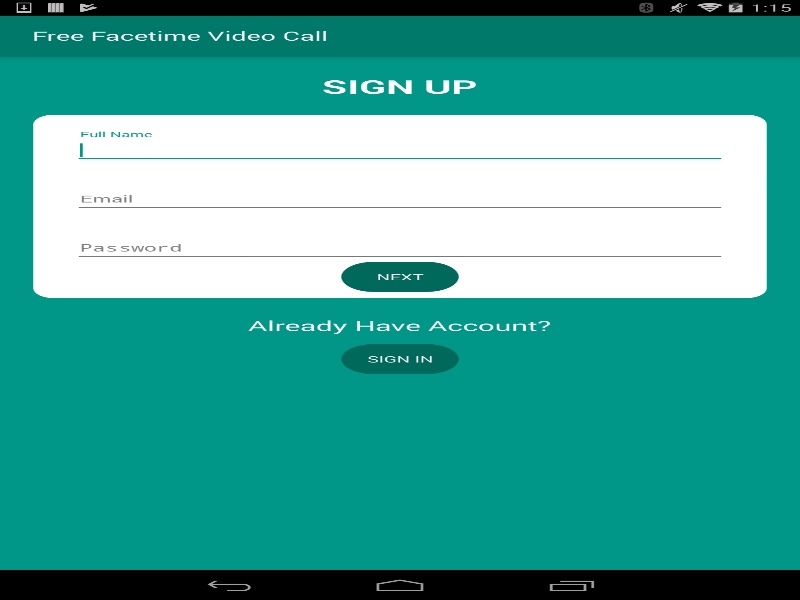Button: (341, 261, 458, 291), (341, 344, 458, 374)
Input: (73, 137, 726, 163), (73, 186, 726, 212), (73, 235, 726, 261)
